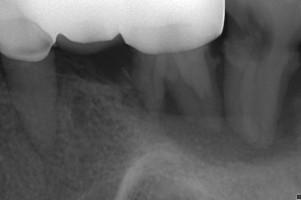Dental Caries: (161, 88, 301, 163)
